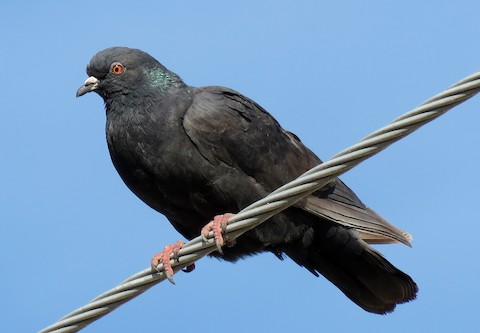pigeon: (75, 45, 423, 318)
